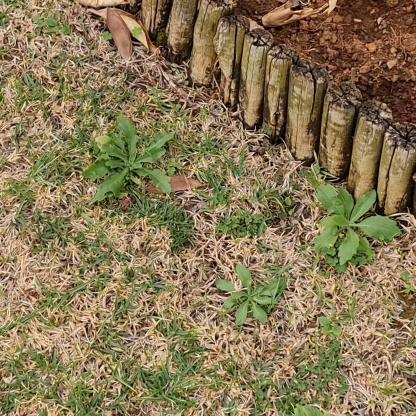Weeds: (80, 118, 176, 208), (313, 182, 401, 267), (215, 266, 287, 327), (322, 315, 340, 341)
